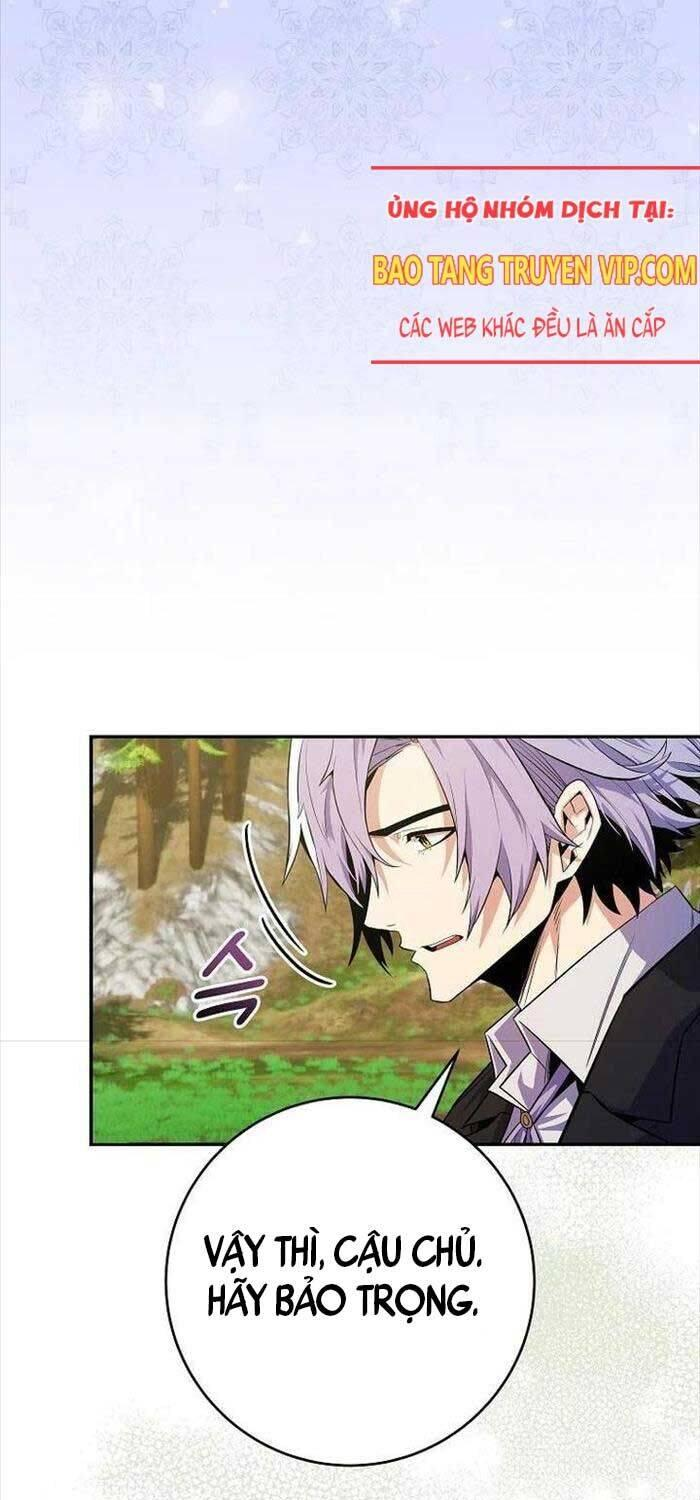quangcao: (366, 164, 700, 368)
